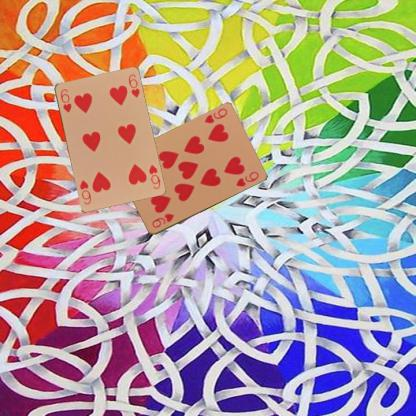6h: (58, 86, 73, 114), (146, 162, 161, 190)
9h: (202, 106, 228, 125), (149, 211, 175, 229)
